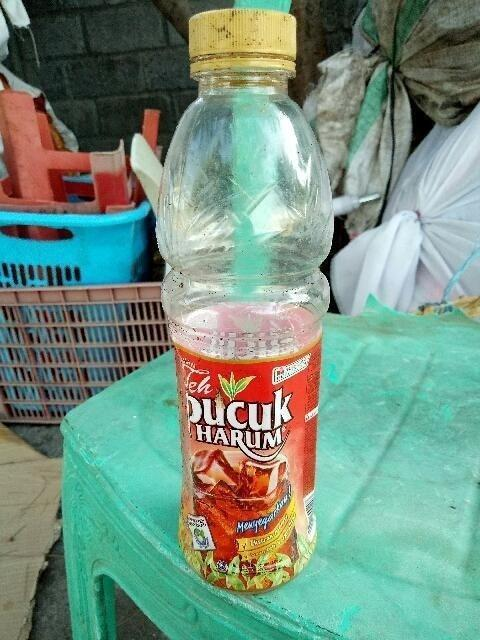bottle-plastic: (154, 7, 335, 594)
